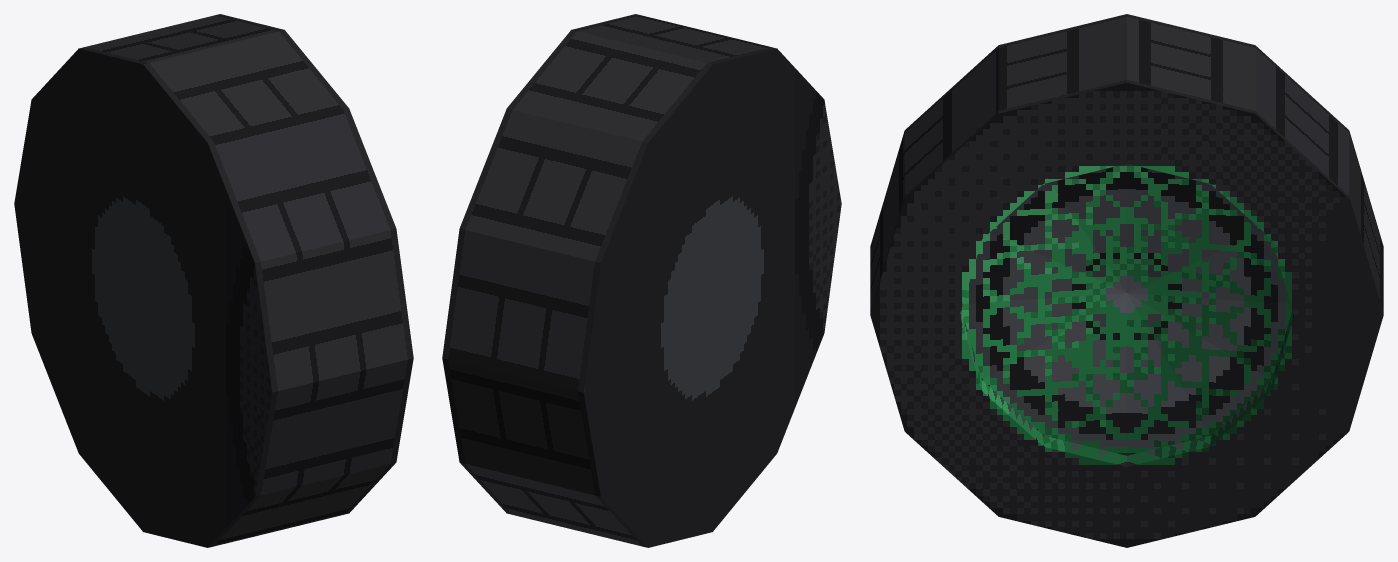
File: wheel_mesh.glb
The picture shows the model from 3 angles, left to right: view 1: azimuth 30°, elevation 25°; view 2: azimuth 150°, elevation 25°; view 3: azimuth 270°, elevation 25°; orthographic projection.
Parts seen in each view (by area): view 1: wheel_mesh; view 2: wheel_mesh; view 3: wheel_mesh.
Part boxes in pixels (x1,y1,x2,y2): wheel_mesh: (14, 14, 413, 547); wheel_mesh: (442, 14, 841, 547); wheel_mesh: (870, 14, 1383, 547).
Size of the model in its own units: 0.185 by 0.5845 by 0.5845.
1 material, 1 textured.
